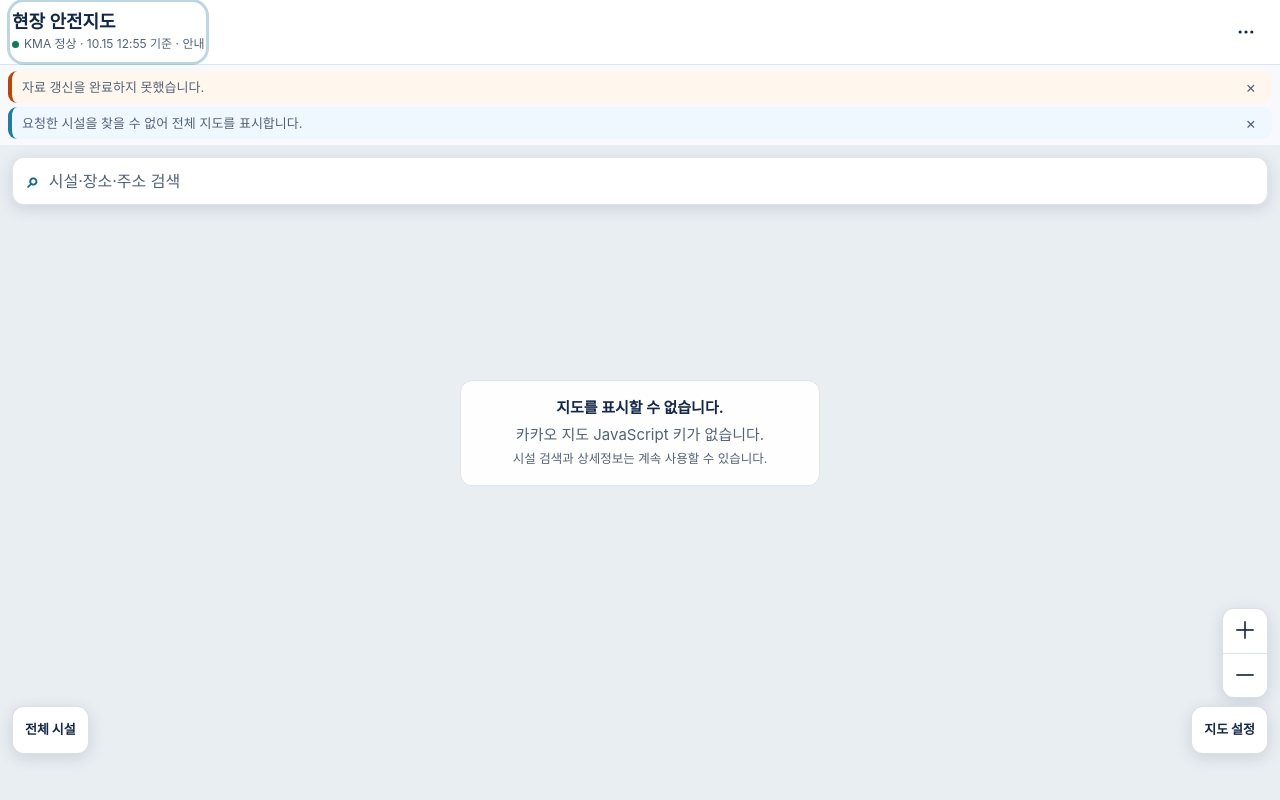
모바일 헤더와 패널 › 경계 대체·조회 오류·잘못된 딥링크의 안내를 상태 패널에 유지한다
Expected: the element with class "notice-stack" shows "요청한 시설을 찾을 수 없어", [22, 115, 302, 131]
Click the button with class "mobile-status-button" at x=108, y=32, box [12, 4, 204, 60]
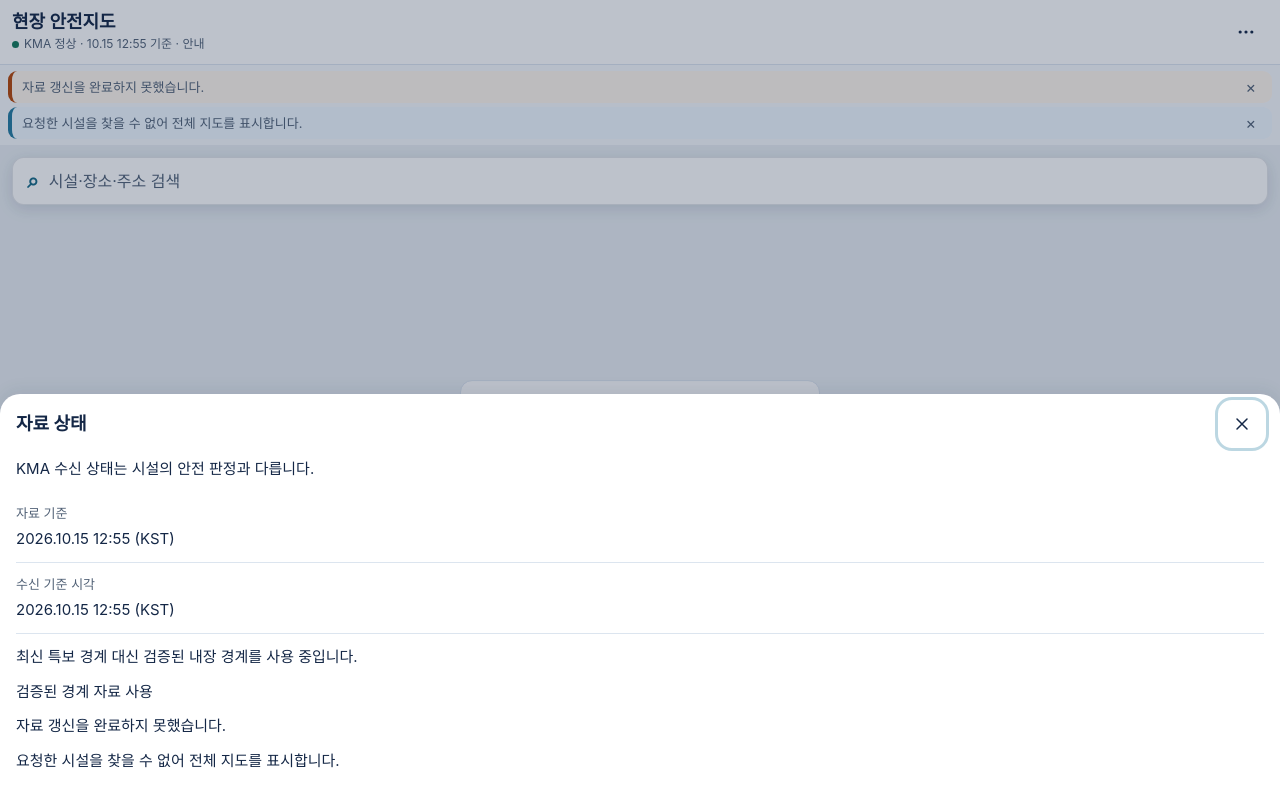
Result: the dialog shows "검증된 내장 경계를 사용 중" at [16, 647, 358, 666]
Result: the dialog shows "검증된 경계 자료 사용" at [16, 682, 153, 700]
Result: the dialog shows "자료 갱신을 완료하지 못했습니다." at [16, 716, 226, 735]
